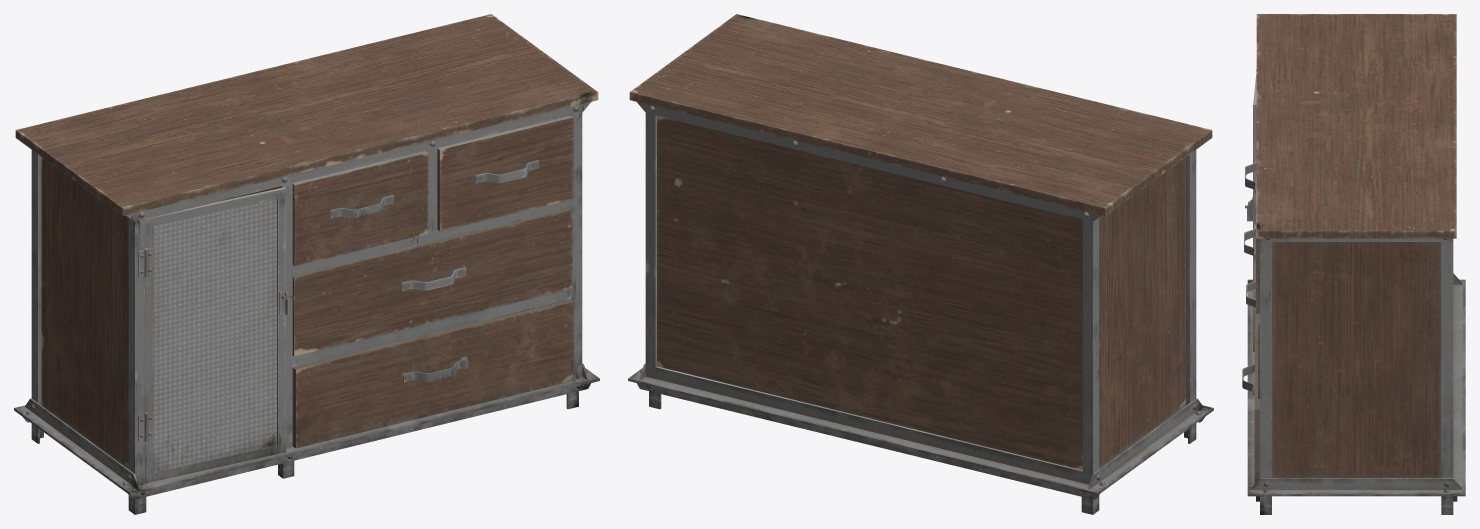
File: WoodenTable_03.glb
The picture shows the model from 3 angles, left to right: view 1: azimuth 30°, elevation 25°; view 2: azimuth 150°, elevation 25°; view 3: azimuth 270°, elevation 25°; orthographic projection. The views are drawn at different scales.
Visible parts, largest first — view 1: WoodenTable_03_body, WoodenTable_03_door, WoodenTable_03_drawer04, WoodenTable_03_drawer03, WoodenTable_03_drawer02, WoodenTable_03_drawer01; view 2: WoodenTable_03_body; view 3: WoodenTable_03_body, WoodenTable_03_drawer04, WoodenTable_03_door, WoodenTable_03_drawer02, WoodenTable_03_drawer03.
Part boxes in pixels (left/top/right/bottom): WoodenTable_03_body: left=14, top=14, right=599, bottom=514; WoodenTable_03_door: left=144, top=187, right=293, bottom=483; WoodenTable_03_drawer04: left=292, top=299, right=574, bottom=448; WoodenTable_03_drawer03: left=292, top=209, right=572, bottom=356; WoodenTable_03_drawer02: left=437, top=115, right=573, bottom=231; WoodenTable_03_drawer01: left=292, top=151, right=428, bottom=266; WoodenTable_03_body: left=628, top=14, right=1213, bottom=514; WoodenTable_03_body: left=1247, top=14, right=1465, bottom=514; WoodenTable_03_drawer04: left=1242, top=289, right=1259, bottom=483; WoodenTable_03_door: left=1245, top=69, right=1256, bottom=351; WoodenTable_03_drawer02: left=1244, top=176, right=1259, bottom=313; WoodenTable_03_drawer03: left=1246, top=281, right=1259, bottom=398.
Bounding box in the file's own units: 1.33 × 0.8301 × 0.5753.
1 material, 1 textured.
